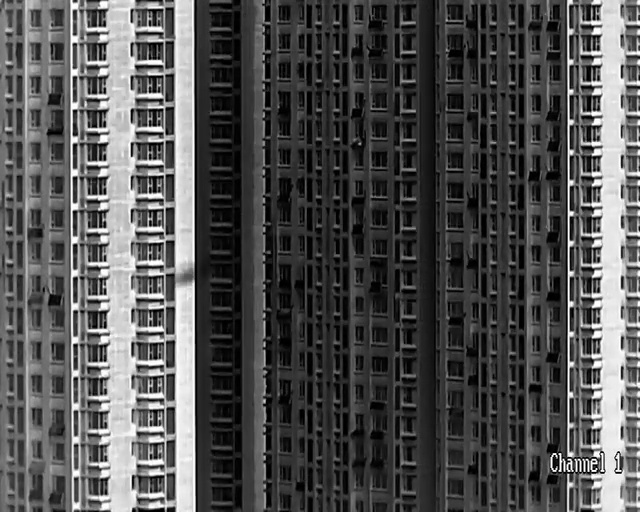uav: (175, 271, 194, 282)
